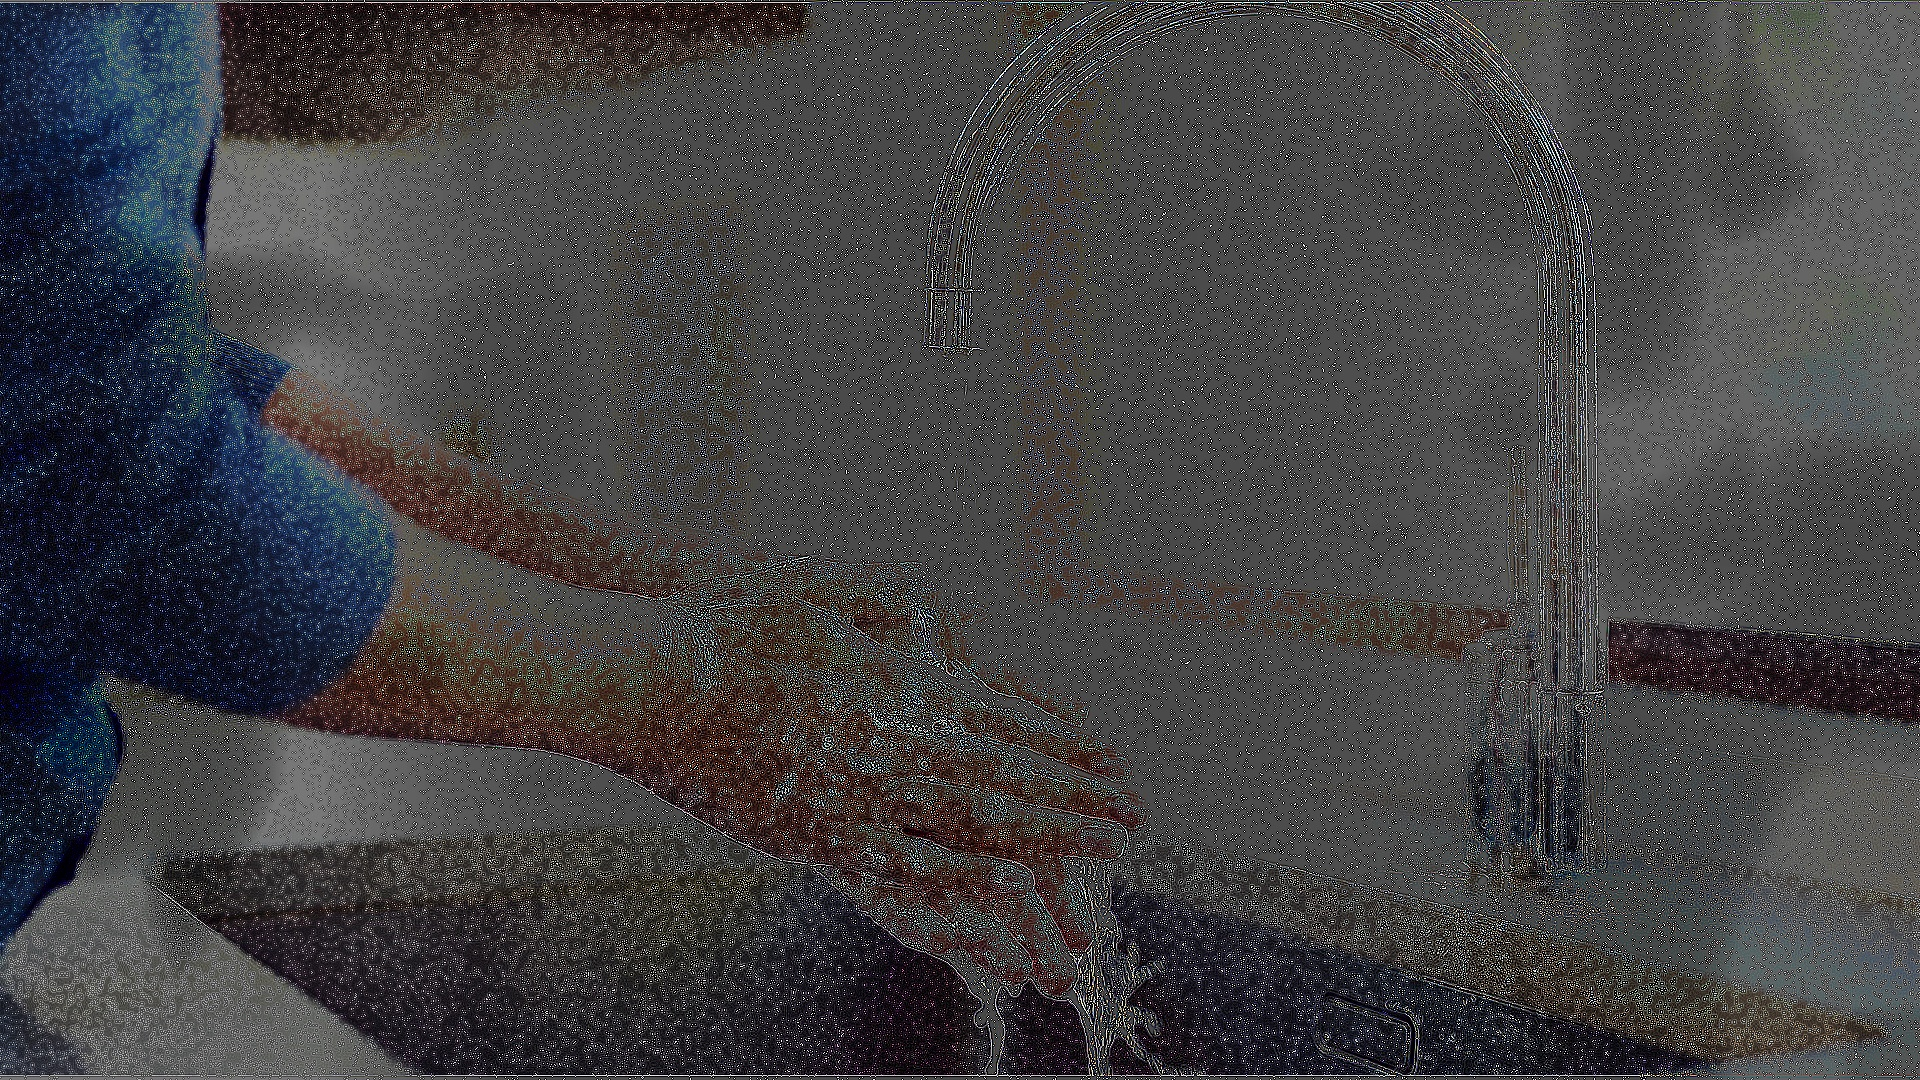washing hand: (650, 50, 1466, 1044)
